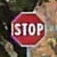stop: (9, 10, 46, 47)
